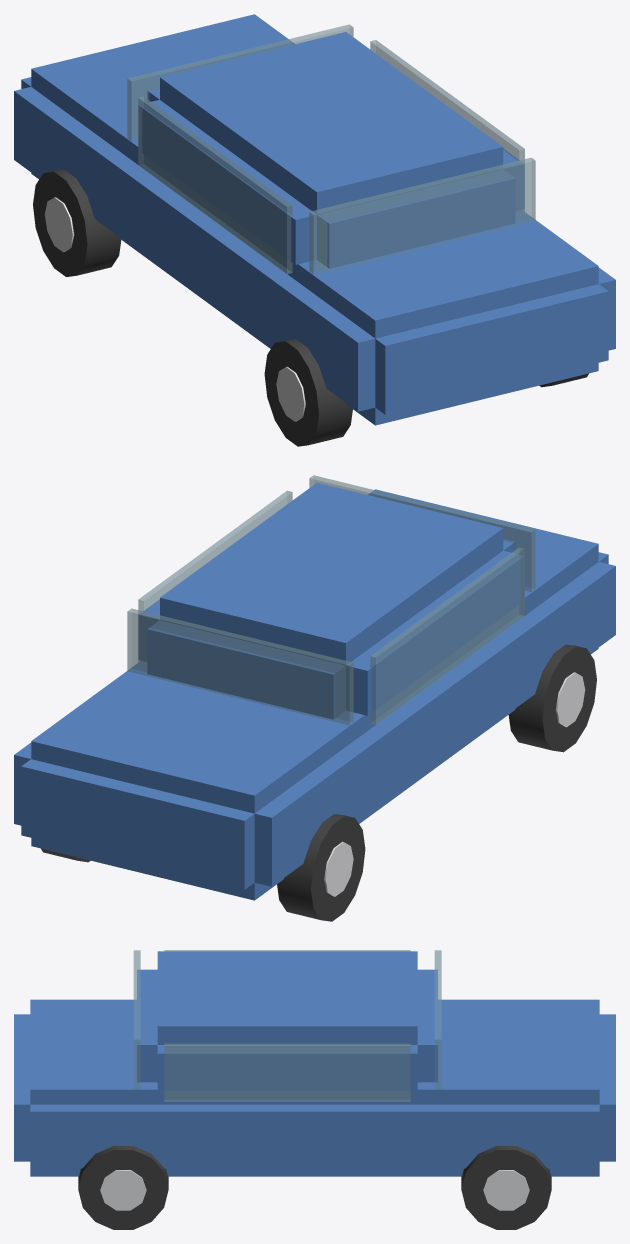
Rendered from sedan.glb.
3 renders of one model, top to bottom at view 1: azimuth 30°, elevation 25°; view 2: azimuth 150°, elevation 25°; view 3: azimuth 270°, elevation 25°, orthographic. The views are drawn at different scales.
Visible parts, largest first — view 1: sedan; view 2: sedan; view 3: sedan.
Part boxes in pixels (x1,y1,x2,y2): sedan: [14, 14, 615, 446]; sedan: [14, 475, 615, 921]; sedan: [14, 950, 615, 1229].
Size of the model in its own units: 1.96 by 1.49 by 4.4.
